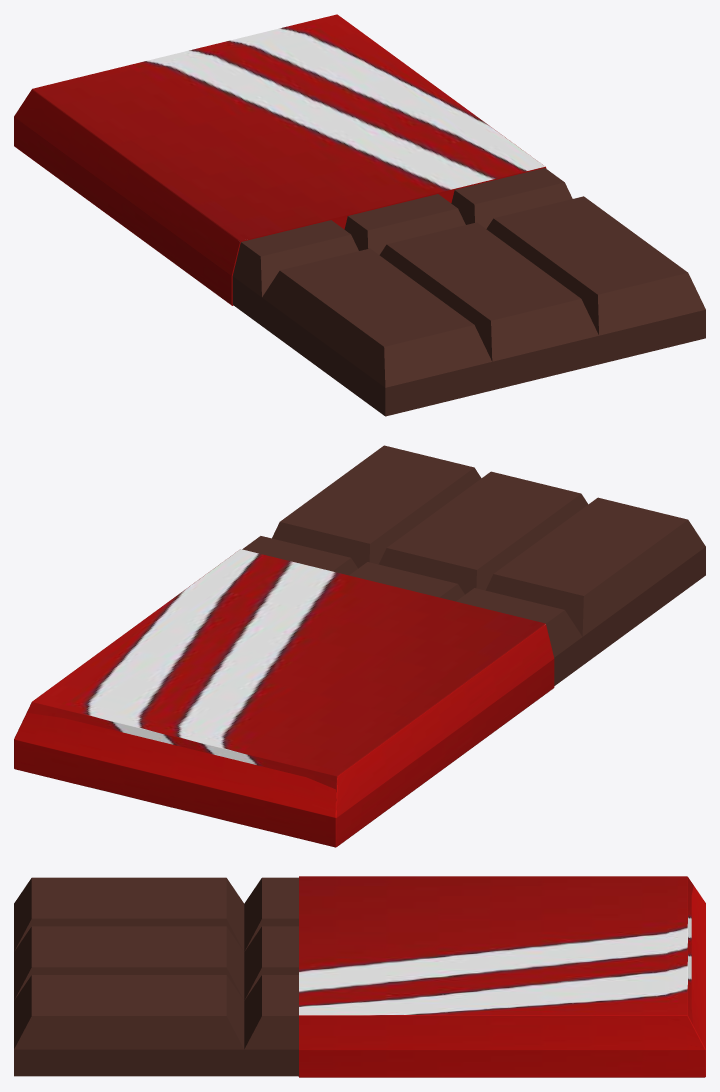
File: chocolate.glb
The picture shows the model from 3 angles, top to bottom: view 1: azimuth 30°, elevation 25°; view 2: azimuth 150°, elevation 25°; view 3: azimuth 270°, elevation 25°; orthographic projection. The views are drawn at different scales.
Visible parts, largest first — view 1: Cube.001, Cube; view 2: Cube.001, Cube; view 3: Cube.001, Cube.
Boxes of the visible parts, x1,y1,x2,y2 form: Cube.001: [14, 14, 546, 305]; Cube: [232, 168, 705, 416]; Cube.001: [14, 549, 554, 847]; Cube: [242, 445, 705, 685]; Cube.001: [298, 876, 705, 1077]; Cube: [14, 877, 298, 1076].
Bounding box in the file's own units: 3.02 × 0.5628 × 6.01.
Materials: 2 (1 with a texture image).
